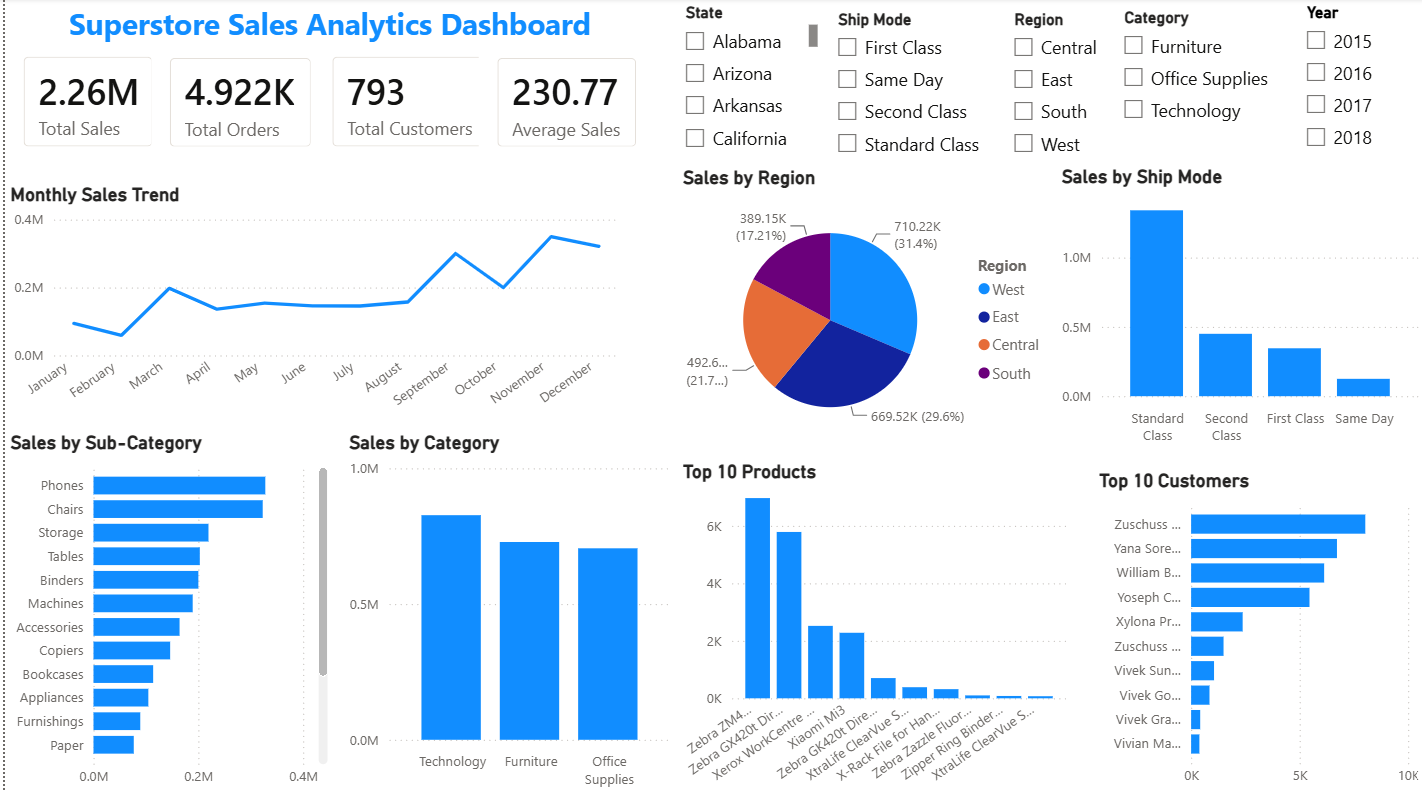

The page's visual inventory and layout, read from the dashboard file:
{"tool":"powerbi","page":{"name":"Page 1","canvas":[1280,720],"ordinal":0},"visuals":[{"type":"columnChart","title":"Sales by Category ","fields":{"Category":["train.Category"],"Y":["Sum(train.Sales)"]},"box":[305.3,390.8,301.3,328.9],"z":0},{"type":"pieChart","title":"Sales by Region","fields":{"Category":["train.Region"],"Y":["Sum(train.Sales)"]},"box":[606.6,152.6,340.8,257.9],"z":1000},{"type":"clusteredBarChart","title":"Sales by Sub-Category","fields":{"Category":["train.Sub-Category"],"Y":["Sum(train.Sales)"]},"box":[0,390.8,296.1,328.9],"z":2000},{"type":"cardVisual","fields":{"Data":["Sum(train.Sales)"]},"box":[0,35.5,150,115.8],"z":3000},{"type":"cardVisual","fields":{"Data":["Count(train.Order ID)"]},"box":[131.6,36.8,161.8,114.5],"z":4000},{"type":"cardVisual","fields":{"Data":["Count(train.Customer ID)"]},"box":[278.9,35.5,177.6,115.8],"z":5000},{"type":"cardVisual","fields":{"Data":["Avg(train.Sales)"]},"box":[427.6,36.8,159.2,114.5],"z":6000},{"type":"lineChart","title":"Monthly Sales Trend","fields":{"Category":["train.Order Date.Variation.Date Hierarchy.Month"],"Y":["Sum(train.Sales)"]},"box":[0,167.1,557.9,223.7],"z":7000},{"type":"clusteredBarChart","title":"Top 10 Customers","fields":{"Category":["train.Customer Name"],"Y":["Sum(train.Sales)"]},"box":[981.6,425,298.7,294.7],"z":8000},{"type":"columnChart","title":"Top 10 Products","fields":{"Category":["train.Product Name"],"Y":["Sum(train.Sales)"]},"box":[606.6,417.1,355.3,302.6],"z":9000},{"type":"clusteredColumnChart","title":"Sales by Ship Mode","fields":{"Category":["train.Ship Mode"],"Y":["Sum(train.Sales)"]},"box":[947.4,151.3,332.9,259.2],"z":10000},{"type":"slicer","fields":{"Values":["train.Region"]},"box":[897.4,5.3,98.7,147.4],"z":10001},{"type":"slicer","fields":{"Values":["train.Category"]},"box":[996.1,3.9,151.3,148.7],"z":10002},{"type":"slicer","fields":{"Values":["train.State"]},"box":[601.3,0,136.8,150],"z":10003},{"type":"slicer","fields":{"Values":["train.Ship Mode"]},"box":[738.2,5.3,159.2,152.6],"z":10004},{"type":"slicer","fields":{"Values":["train.Order Date.Variation.Date Hierarchy.Year"]},"box":[1160.5,0,119.7,152.6],"z":10005},{"type":"textbox","box":[14.5,0,556.6,48.7],"z":10006}]}

Visuals, with their boxes in screenshot pixels (x1, y1, x2, y2), scaled from the page's 1280x720 canvas onto the 1422x790 screenshot:
"Sales by Category " columnChart: rect(339, 429, 674, 789)
"Sales by Region" pieChart: rect(674, 167, 1053, 450)
"Sales by Sub-Category" clusteredBarChart: rect(0, 429, 329, 789)
cardVisual - Sum(train.Sales): rect(0, 39, 167, 166)
cardVisual - Count(train.Order ID): rect(146, 40, 326, 166)
cardVisual - Count(train.Customer ID): rect(310, 39, 507, 166)
cardVisual - Avg(train.Sales): rect(475, 40, 652, 166)
"Monthly Sales Trend" lineChart: rect(0, 183, 620, 429)
"Top 10 Customers" clusteredBarChart: rect(1090, 466, 1421, 789)
"Top 10 Products" columnChart: rect(674, 458, 1069, 789)
"Sales by Ship Mode" clusteredColumnChart: rect(1053, 166, 1421, 450)
slicer - train.Region: rect(997, 6, 1107, 168)
slicer - train.Category: rect(1107, 4, 1275, 167)
slicer - train.State: rect(668, 0, 820, 165)
slicer - train.Ship Mode: rect(820, 6, 997, 173)
slicer - train.Order Date.Variation.Date Hierarchy.Year: rect(1289, 0, 1421, 167)
textbox: rect(16, 0, 634, 53)
